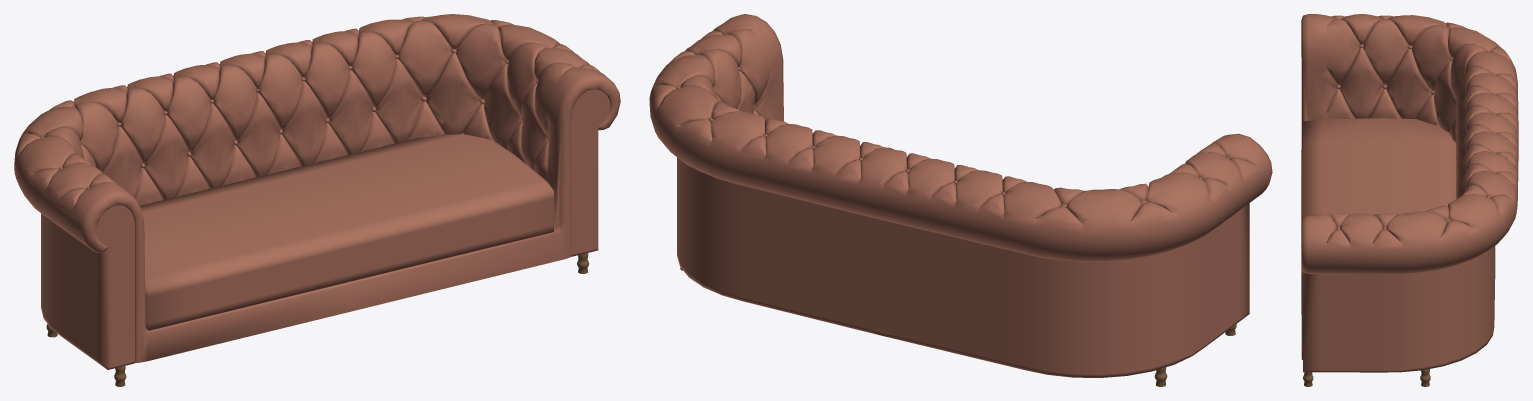
Rendered from winchesterSofa.glb.
3 views of the same model, side by side, from view 1: azimuth 30°, elevation 25°; view 2: azimuth 150°, elevation 25°; view 3: azimuth 270°, elevation 25° (orthographic). The views are drawn at different scales.
Visible parts, largest first — view 1: Circle, Cube_Cube.001, Circle.002_Circle.003; view 2: Circle.002_Circle.003, Circle; view 3: Circle, Circle.002_Circle.003, Cube_Cube.001.
Part boxes in pixels (box(x1,y1,x2,y2)): Circle: box(14, 14, 620, 362); Cube_Cube.001: box(139, 132, 553, 330); Circle.002_Circle.003: box(41, 89, 610, 369); Circle.002_Circle.003: box(677, 157, 1249, 377); Circle: box(649, 14, 1272, 261); Circle: box(1301, 14, 1518, 359); Circle.002_Circle.003: box(1303, 246, 1495, 372); Cube_Cube.001: box(1303, 118, 1456, 216).
Size of the model in its own units: 2.32 by 0.8046 by 0.9374.
